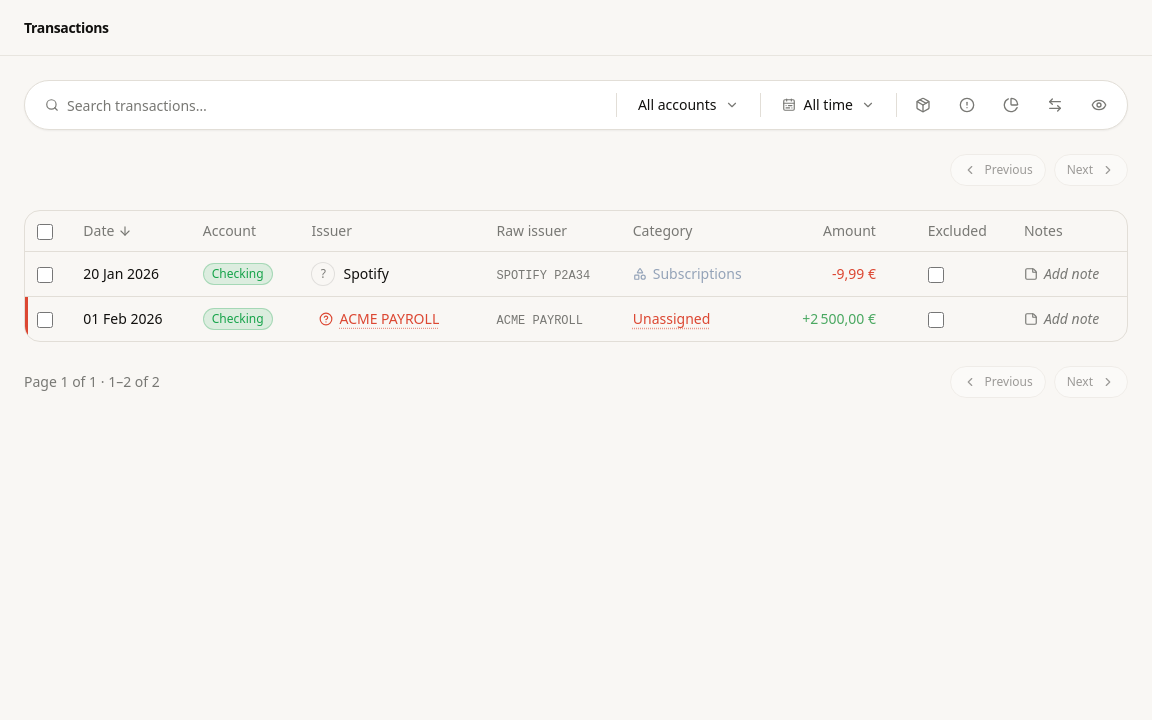
TransactionsView › offers bundling only once a selection exists, and counts it
Expected: the button "ACME PAYROLL" is shown, [312, 306, 447, 330]
Expected: the button "create bundle" is not shown
Click the checkbox named "select transaction SPOTIFY" at (45, 275), box [37, 267, 53, 283]
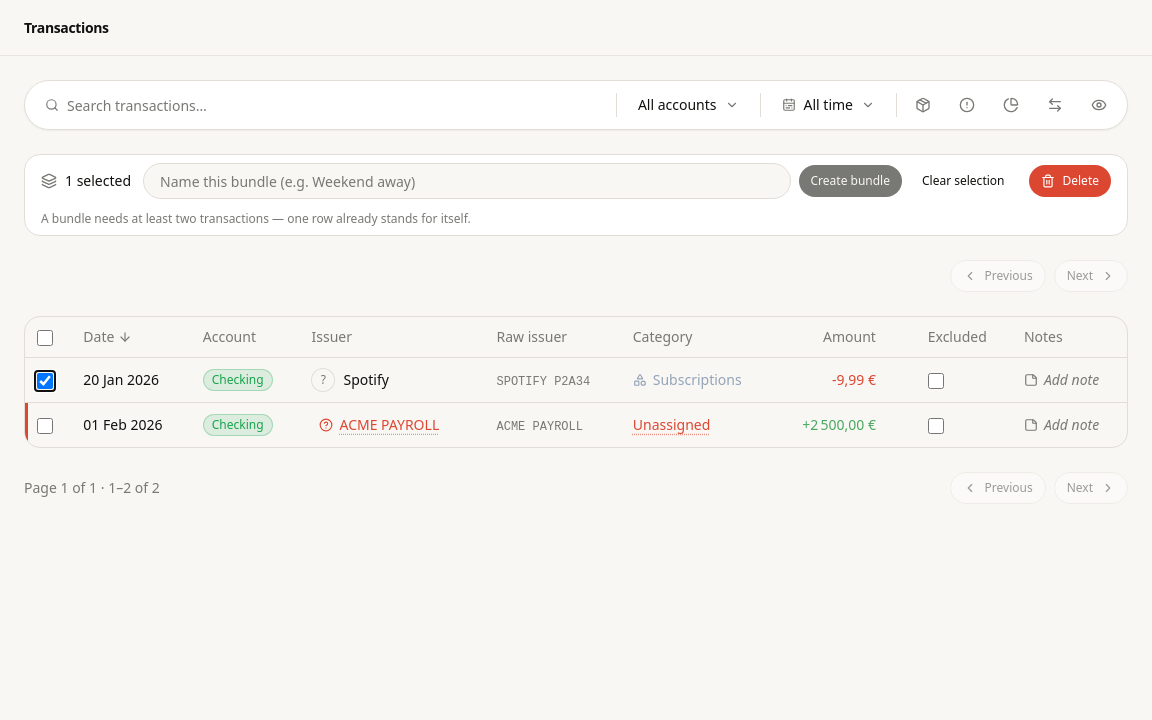
Result: the text "1 selected" is shown at [41, 171, 131, 191]
Result: the button "Create bundle" is disabled at [798, 165, 902, 197]
Click the checkbox named "select transaction ACME PAYROLL" at (45, 426), box [37, 418, 53, 434]
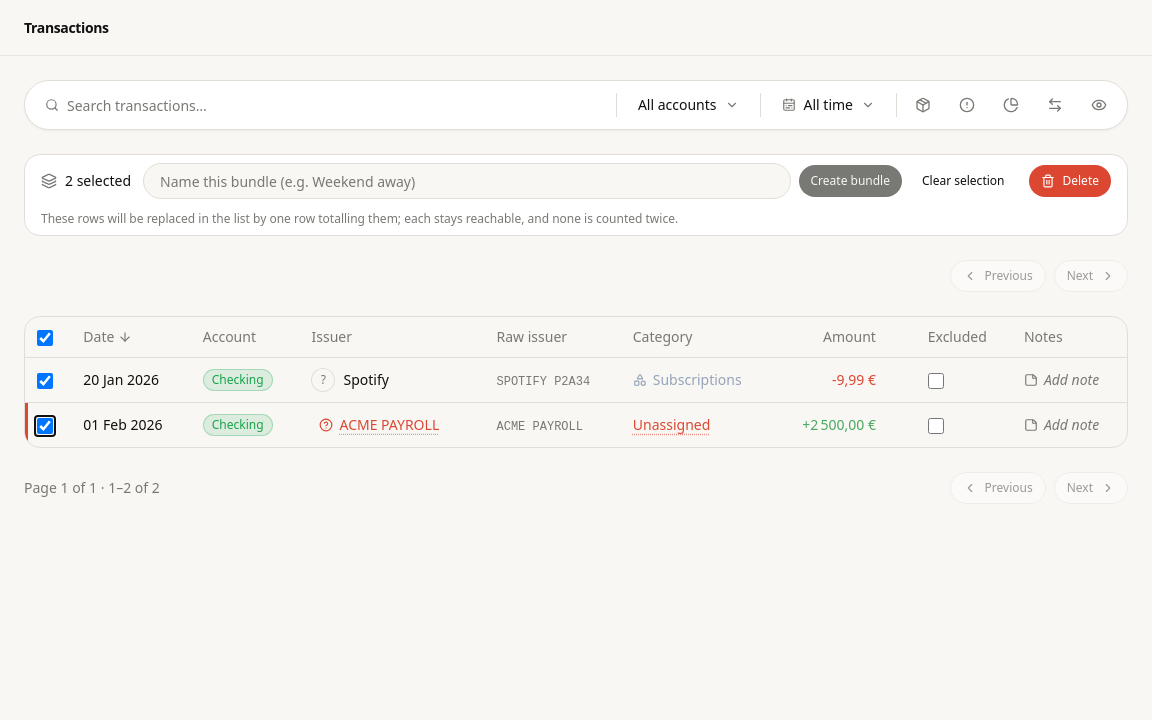
Result: the text "2 selected" is shown at [41, 171, 131, 191]
